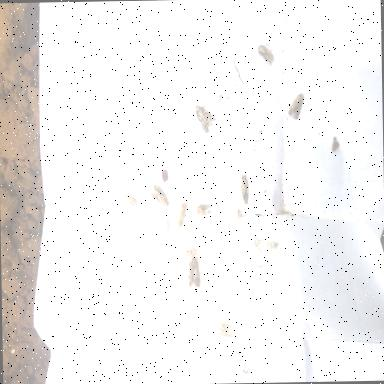pbw: (194, 105, 216, 133), (288, 93, 304, 119), (150, 184, 168, 207), (188, 258, 200, 288), (118, 191, 136, 208), (258, 44, 274, 62), (240, 175, 249, 204), (196, 204, 213, 216), (178, 204, 184, 228)
